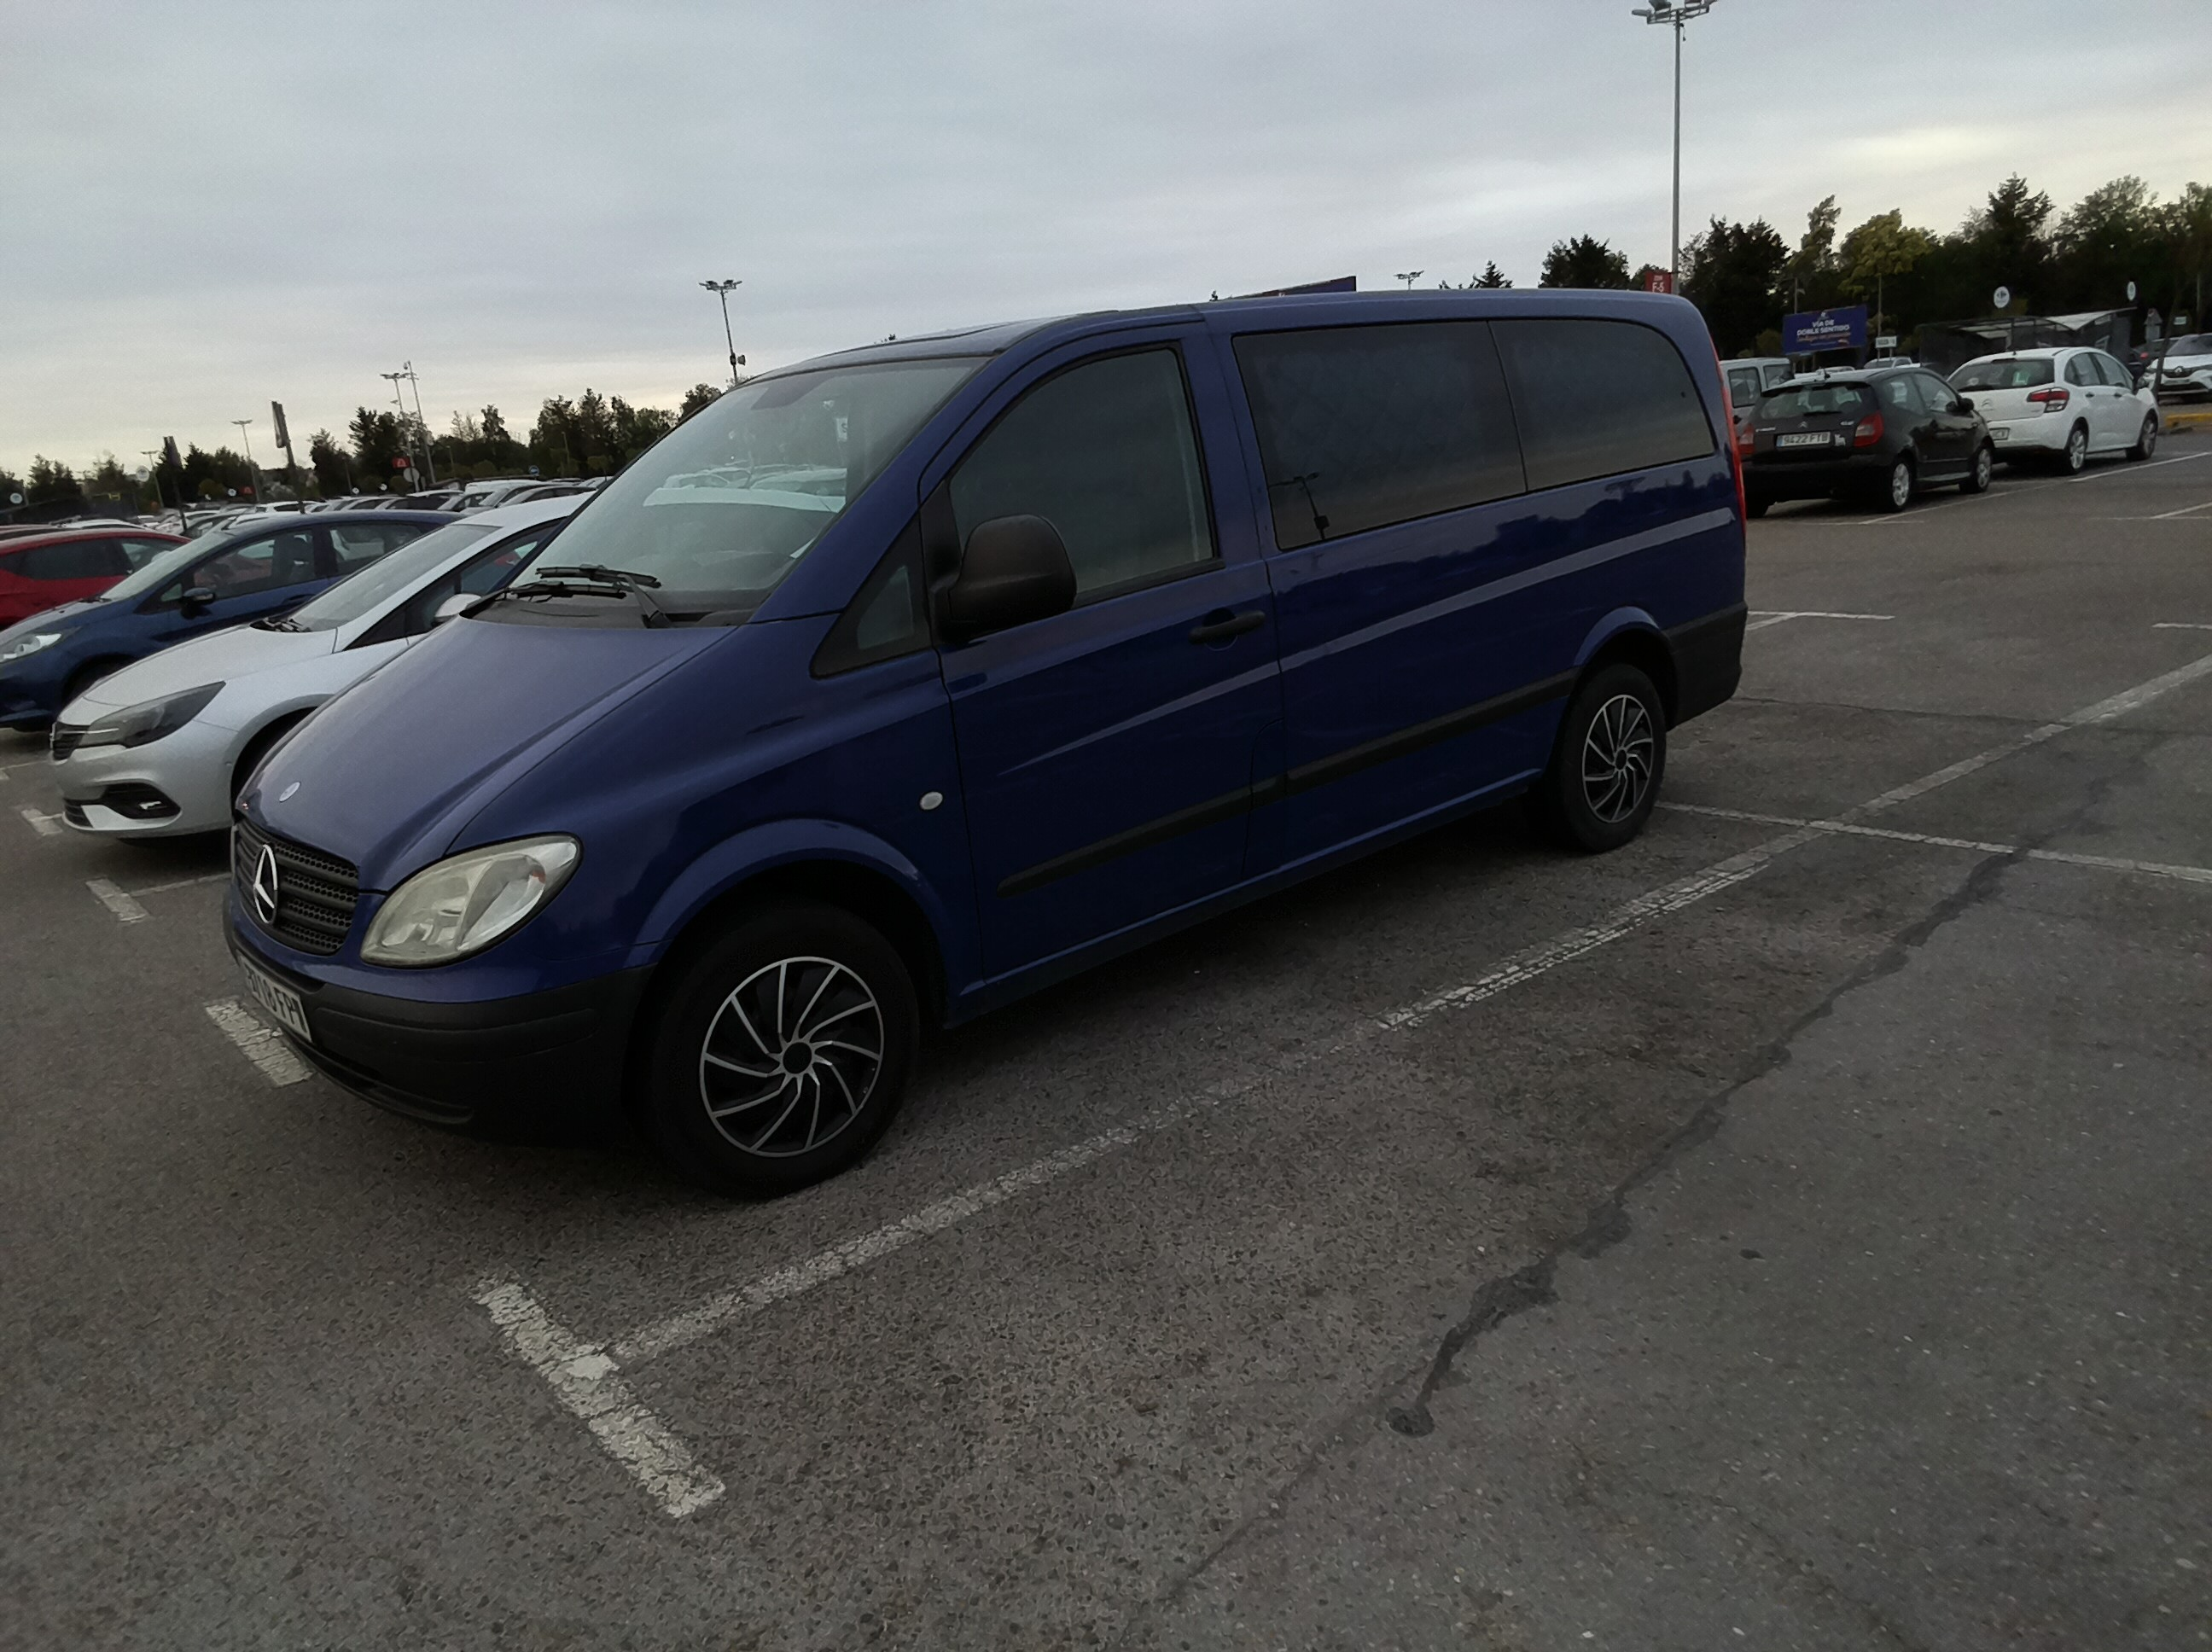Vehiculo: (186, 286, 1799, 1237)
